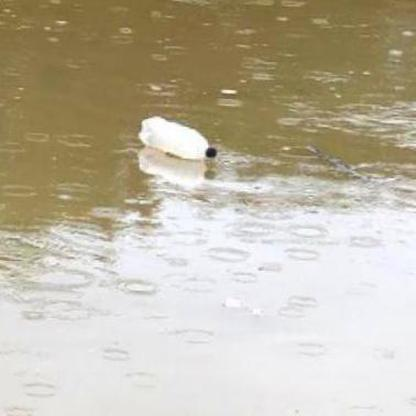plastic bottle: (138, 116, 217, 162)
